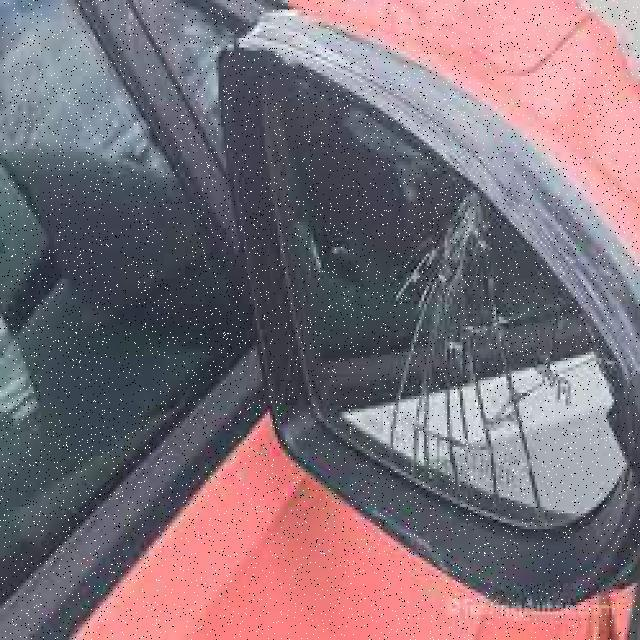Sidemirror-Damage: (152, 3, 638, 612)
